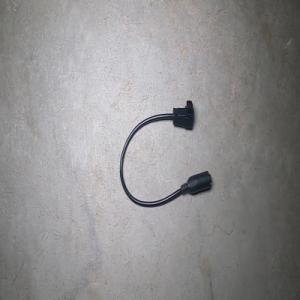Wire: (119, 100, 211, 207)
